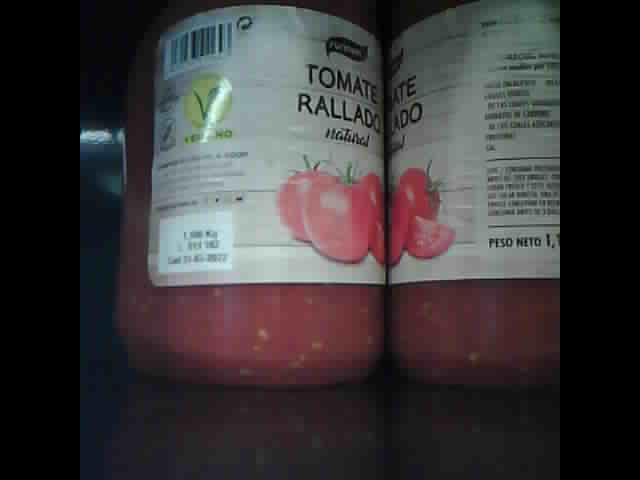tomate: (118, 3, 382, 389), (388, 5, 560, 387)
